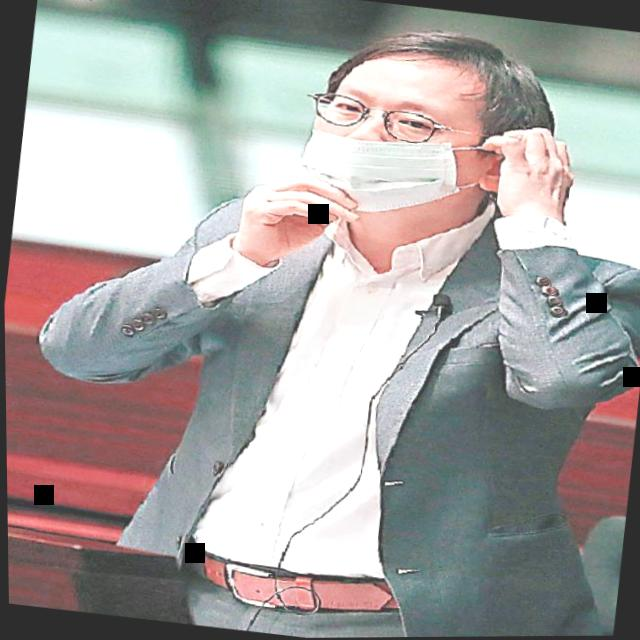Mask: (274, 4, 581, 246)
